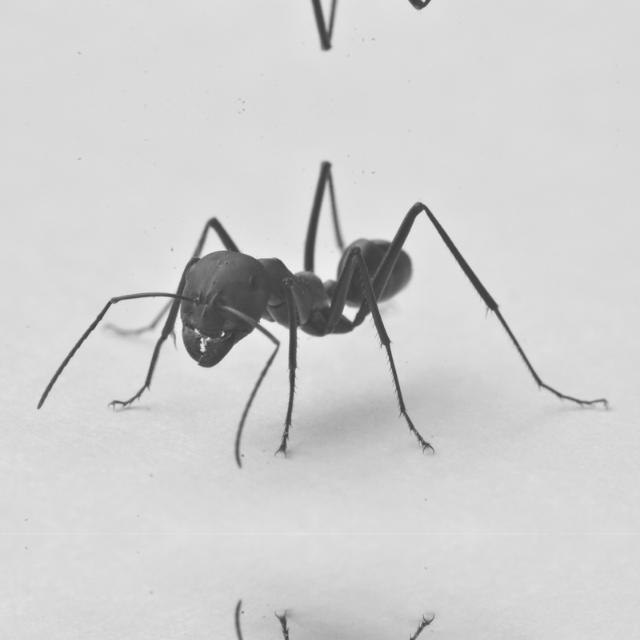Cataglyphis: (75, 178, 562, 428)
